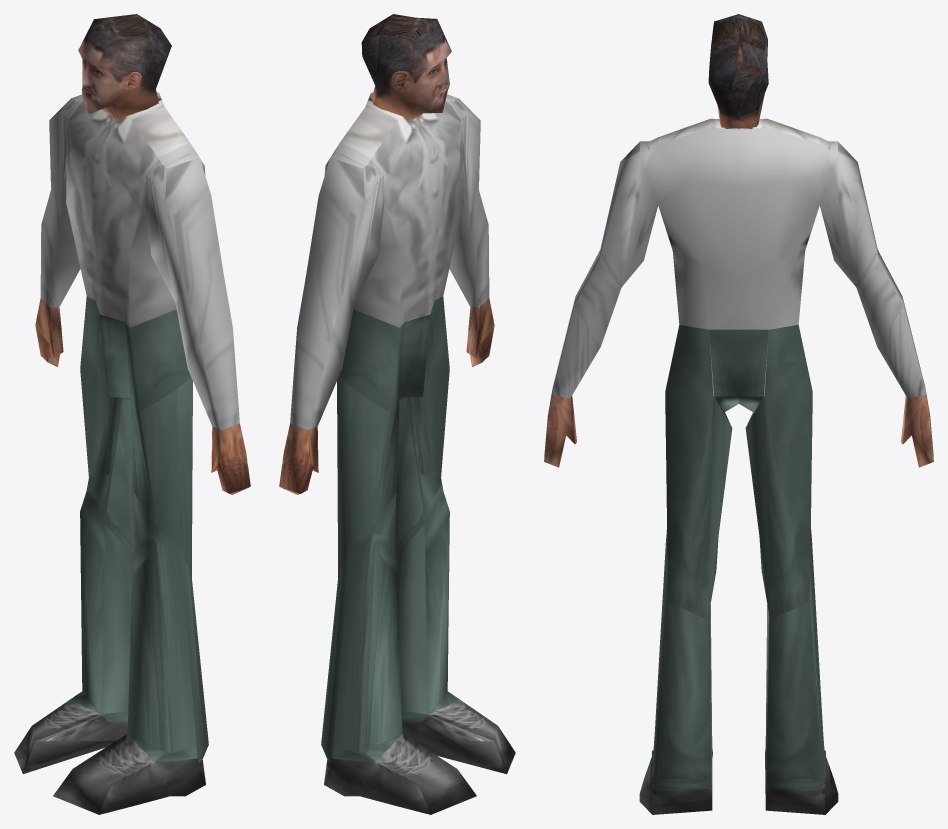
The model's file is man6.fbx.
The picture shows the model from 3 angles, left to right: view 1: azimuth 30°, elevation 25°; view 2: azimuth 150°, elevation 25°; view 3: azimuth 270°, elevation 25°; orthographic projection. The views are drawn at different scales.
Parts seen in each view (by area): view 1: man6; view 2: man6; view 3: man6.
Boxes of the visible parts, x1,y1,x2,y2 form: man6: [14, 14, 250, 814]; man6: [279, 14, 515, 814]; man6: [544, 14, 933, 814].
Size of the model in its own units: 34.73 by 186 by 84.77.
Materials: 2 (2 with a texture image).
